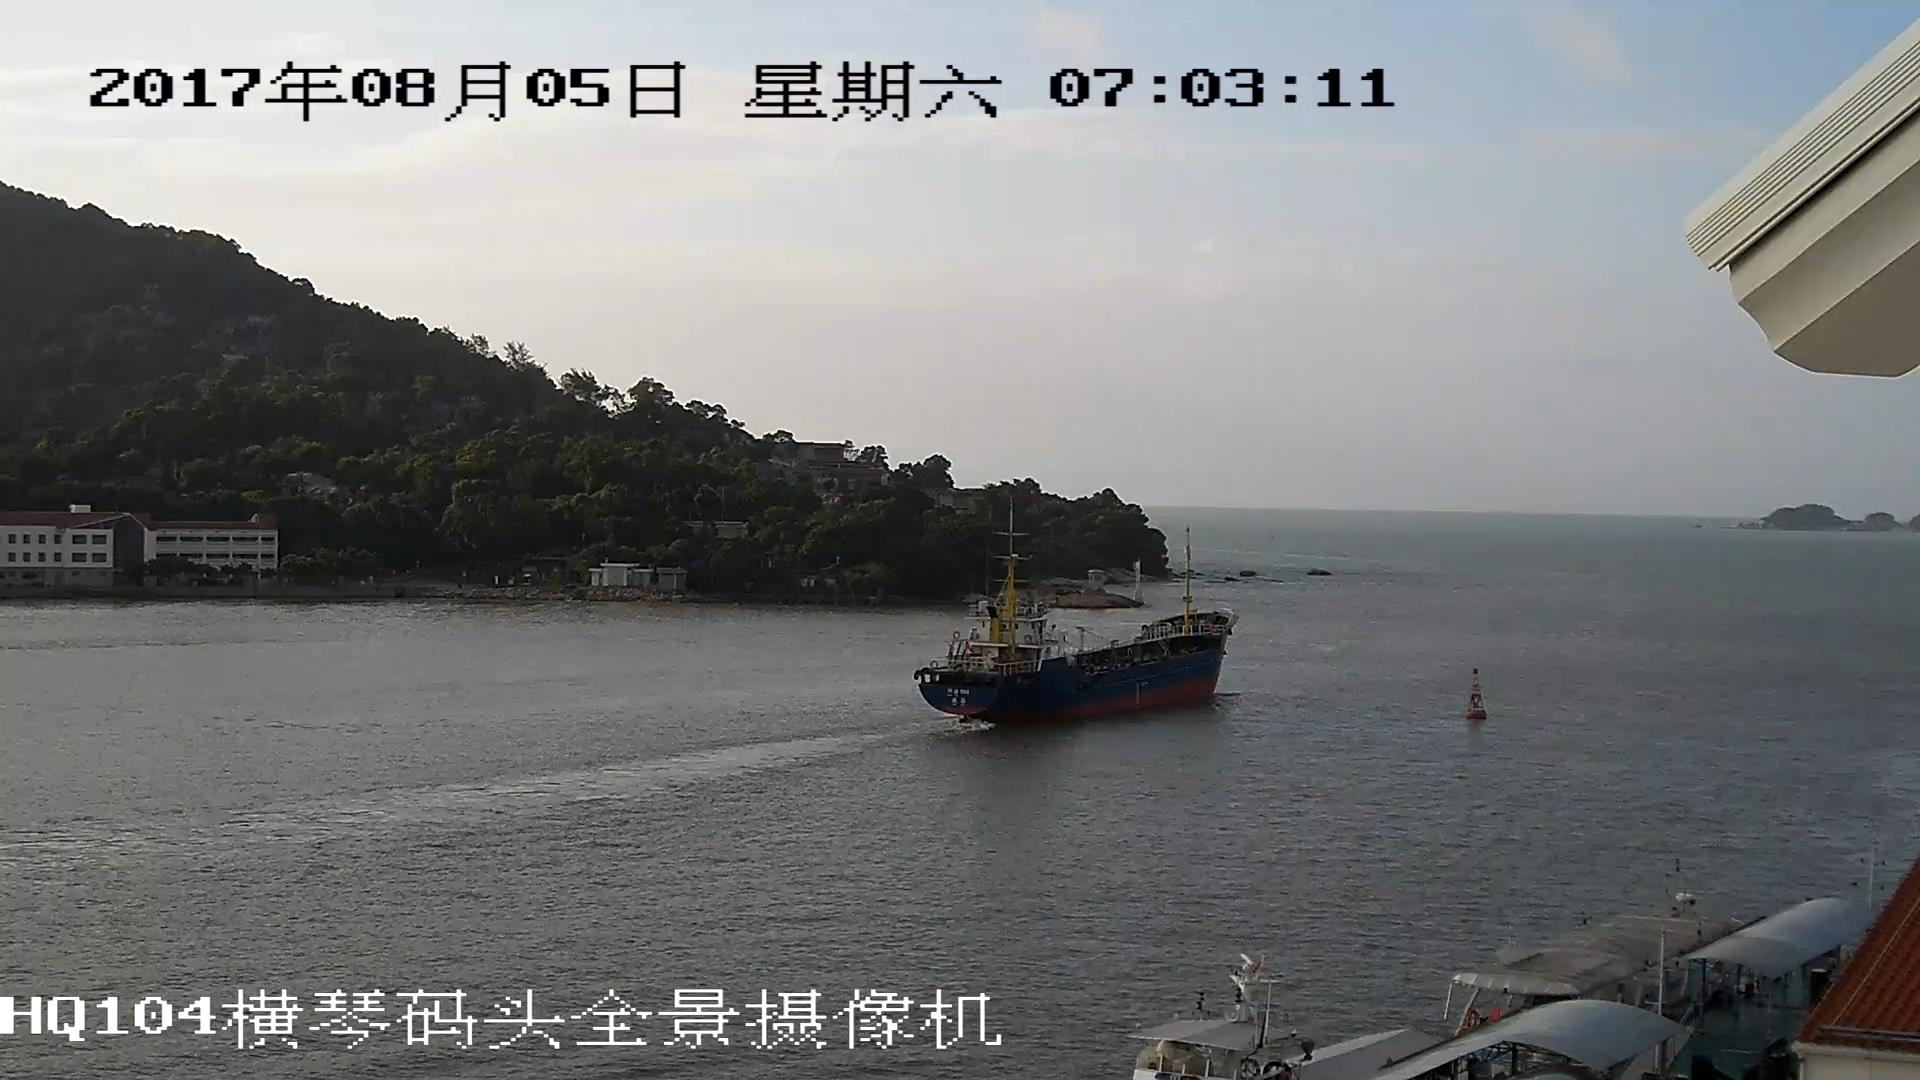general cargo ship: (909, 531, 1238, 720)
